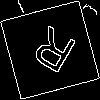R: (25, 25, 79, 83)
